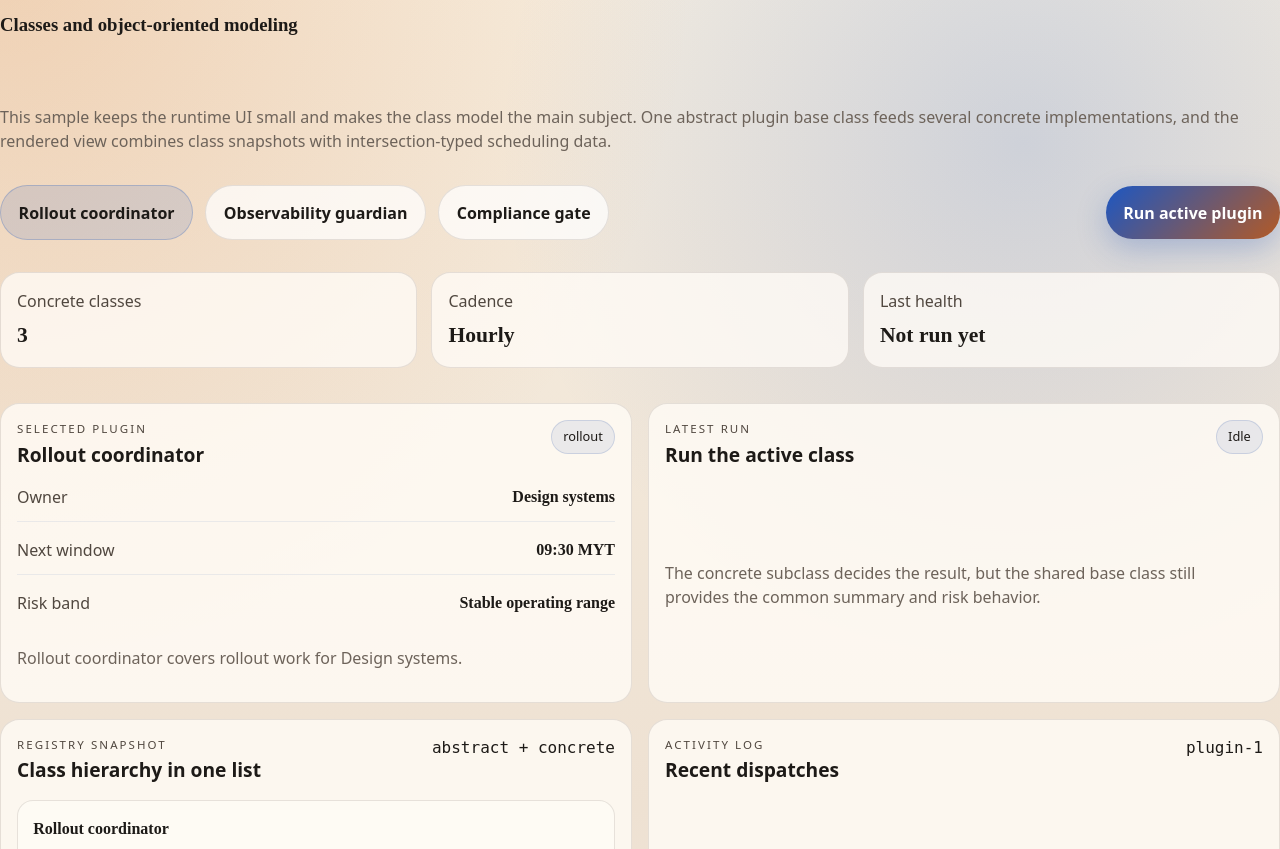
classes models sample › runs the selected plugin and updates the latest run details
This screenshot has width=1280, height=849.
Click the button "Observability guardian" at (316, 213), box left=205, top=185, right=426, bottom=240
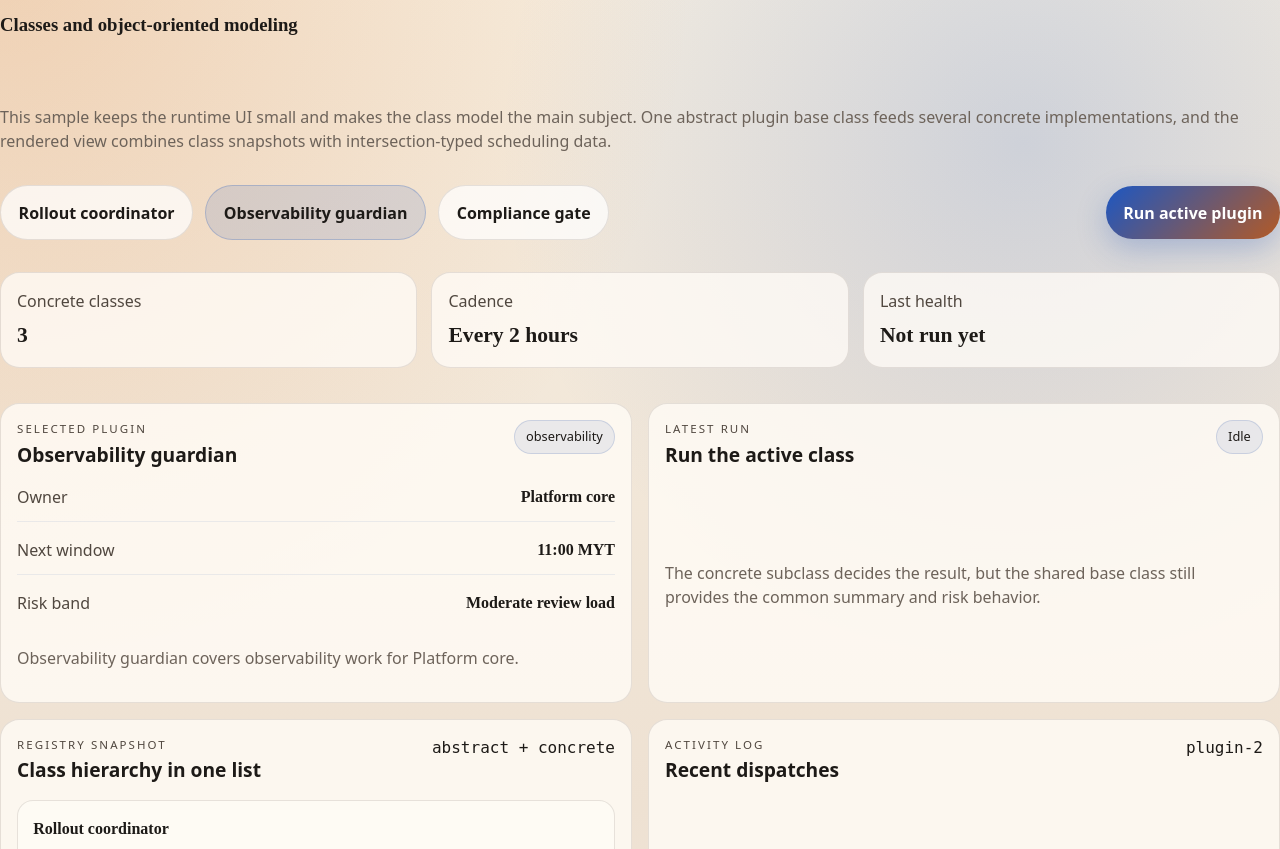
Result: the heading "Observability guardian" is shown at left=17, top=441, right=237, bottom=470
Result: the text "Platform core" is shown at left=521, top=485, right=615, bottom=509
Result: the text "Moderate review load" is shown at left=466, top=591, right=615, bottom=615
Click the button "Run active plugin" at (1193, 213), box left=1106, top=186, right=1279, bottom=239
(page scrolled)
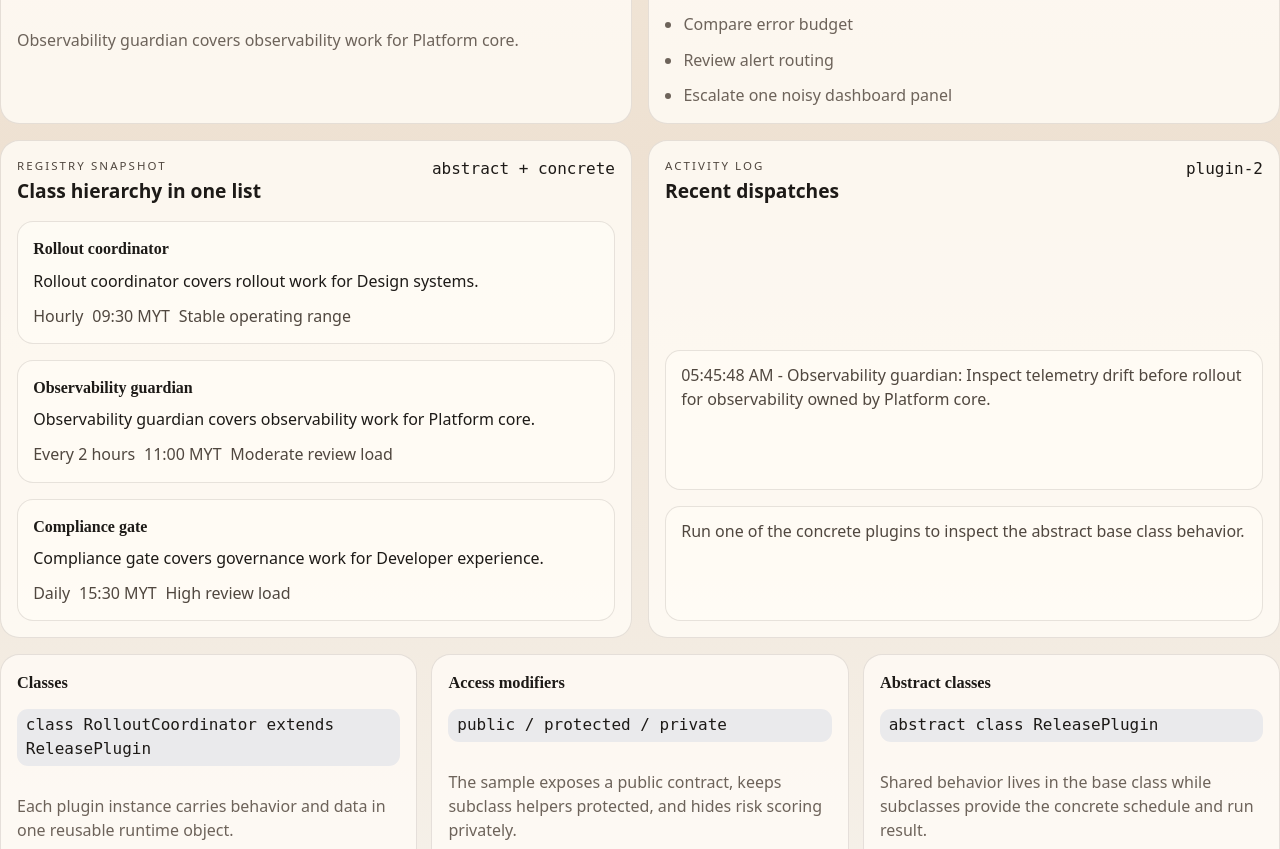
Expected: the text "Activity log" is shown, left=665, top=158, right=764, bottom=173
Result: the list item "Escalate one noisy dashboard panel" is shown at left=683, top=84, right=952, bottom=106
Result: the text "Observability guardian: Inspect telemetry drift before rollout for observability owned by Platform core." is shown at left=681, top=364, right=1242, bottom=410
